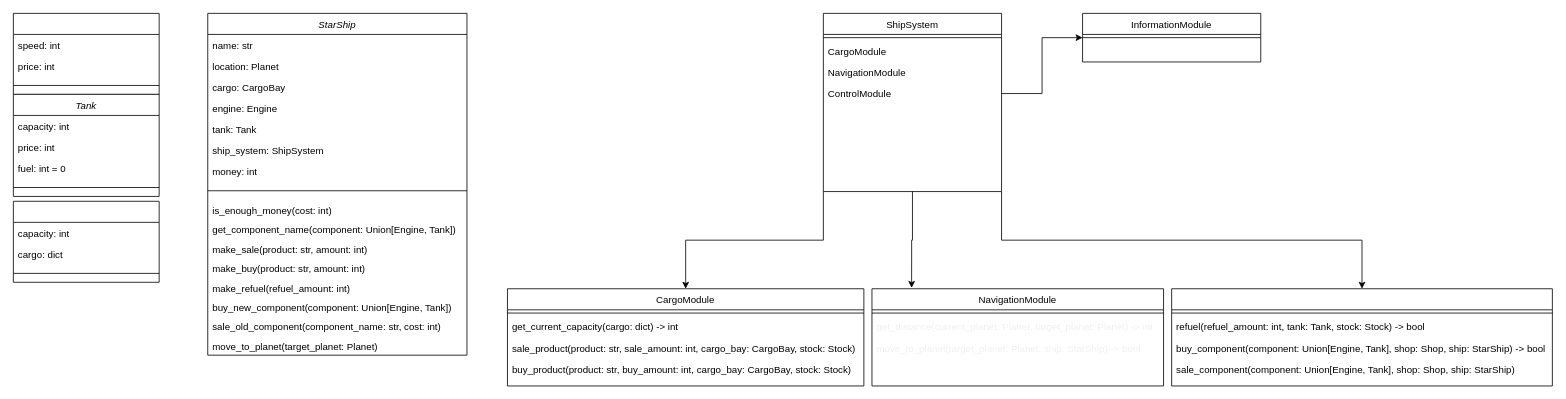
Image size: 1566x399. Some labels were removed from this diagram. The shapes that lost their labels are listed below. From the top down, each one's box as (x1, y1, x2, y2) in pixels, then its label:
(13, 13, 159, 94): Engine
(13, 200, 159, 282): CargoBay
(1171, 288, 1552, 386): ComponentModule
